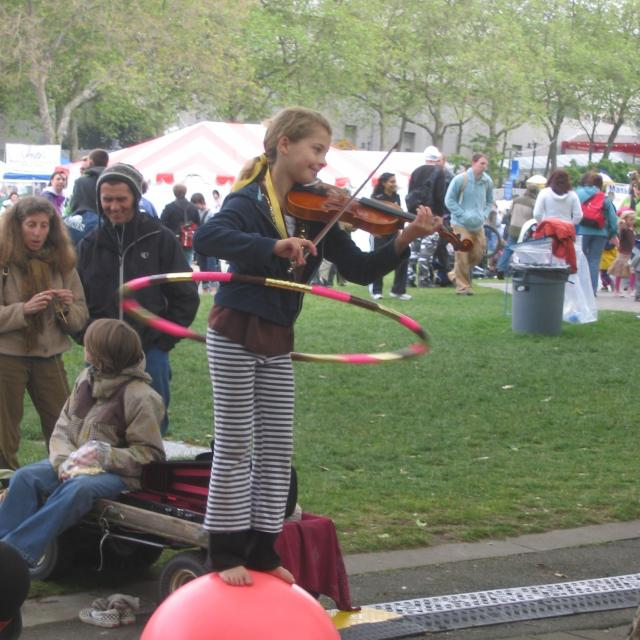violin: (282, 177, 479, 254)
